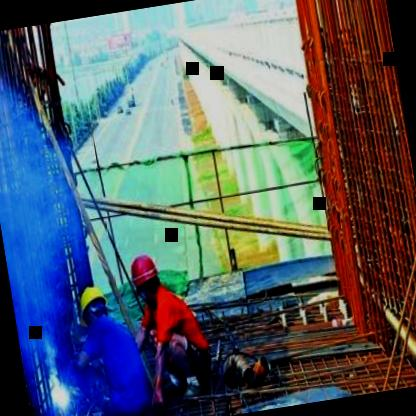helmet: (124, 249, 164, 302), (73, 283, 111, 330)
